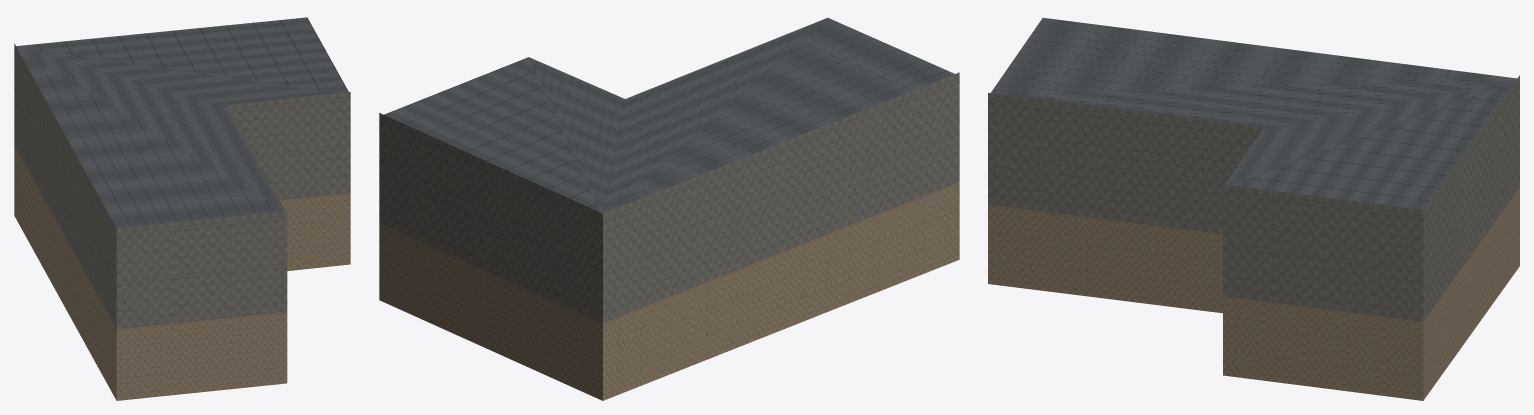
The model's file is bld_c8_38_515.gltf.
The picture shows the model from 3 angles, left to right: view 1: azimuth 30°, elevation 25°; view 2: azimuth 150°, elevation 25°; view 3: azimuth 270°, elevation 25°; orthographic projection. The views are drawn at different scales.
Visible parts, largest first — view 1: bld_c8_38_515; view 2: bld_c8_38_515; view 3: bld_c8_38_515.
Boxes of the visible parts, <box> form: bld_c8_38_515: <box>14,17,350,400</box>; bld_c8_38_515: <box>379,17,959,400</box>; bld_c8_38_515: <box>988,17,1519,400</box>.
Size of the model in its own units: 26.99 by 12.28 by 30.96.
Materials: 4 (4 with a texture image).
